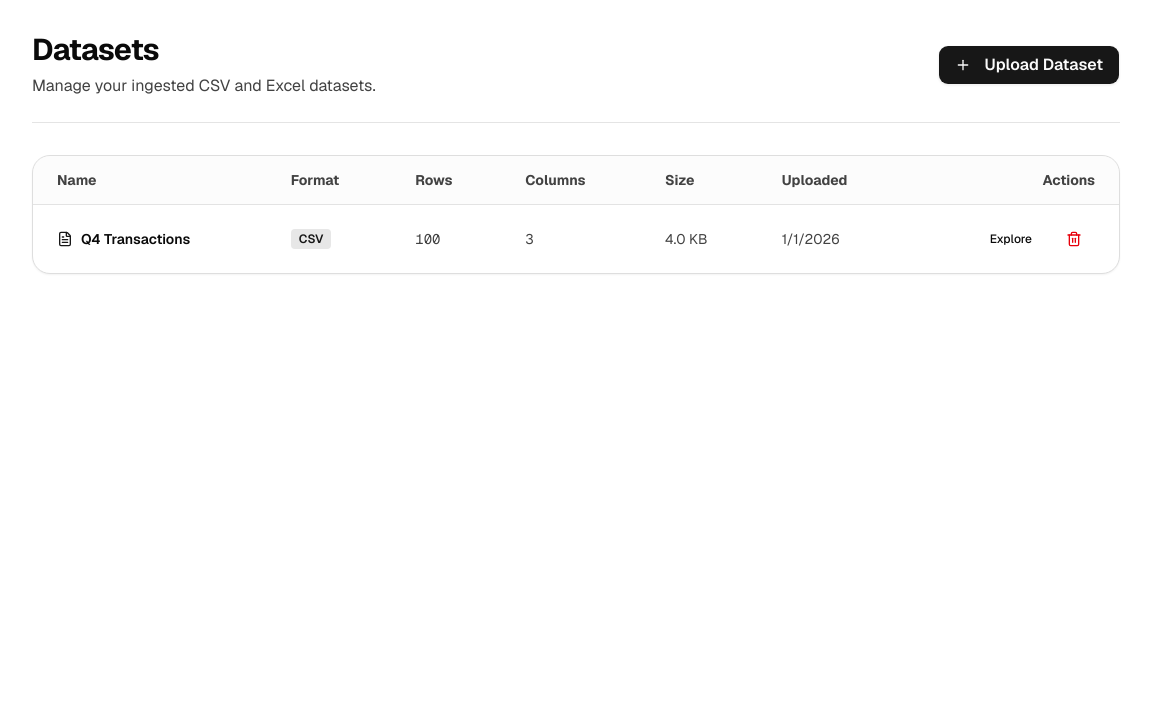
Test case: M2 Dataset Experience › DatasetsListPage › displays error banner when dataset deletion fails
Expected: the text "Q4 Transactions" is shown, [81, 229, 190, 249]
Step 1. Click the 3rd button → (1074, 239), box [1053, 221, 1095, 257]
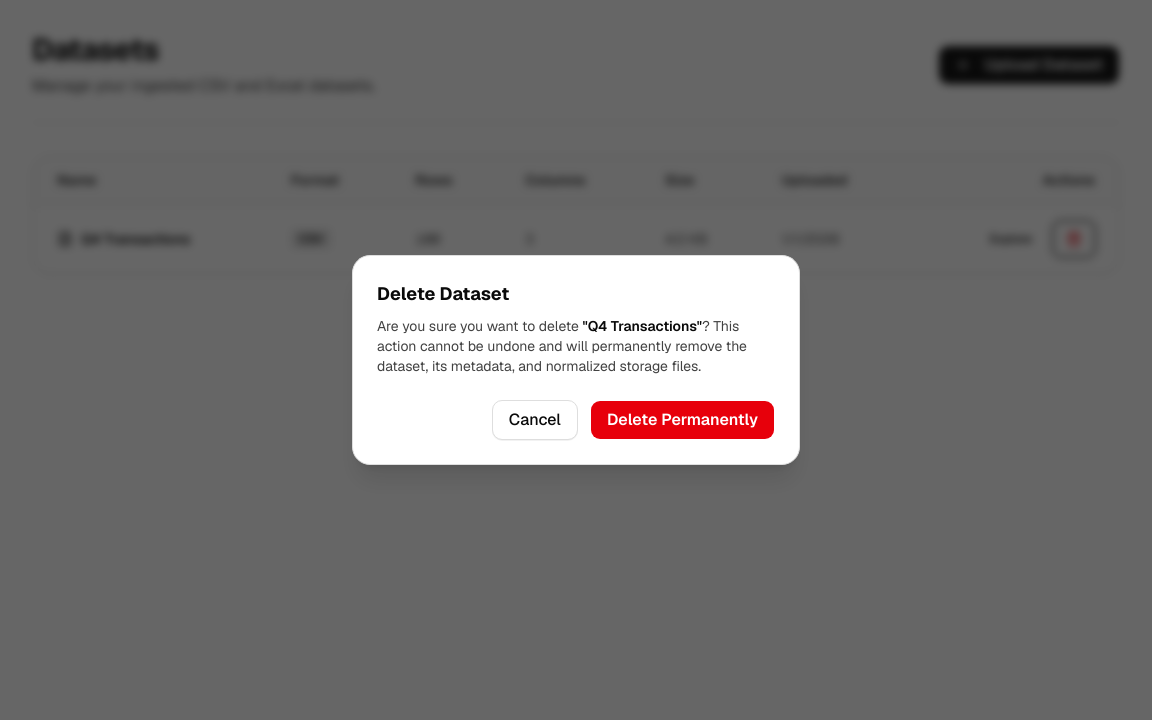
Step 2. Click the button "Delete Permanently" → (682, 420), box [590, 400, 775, 440]
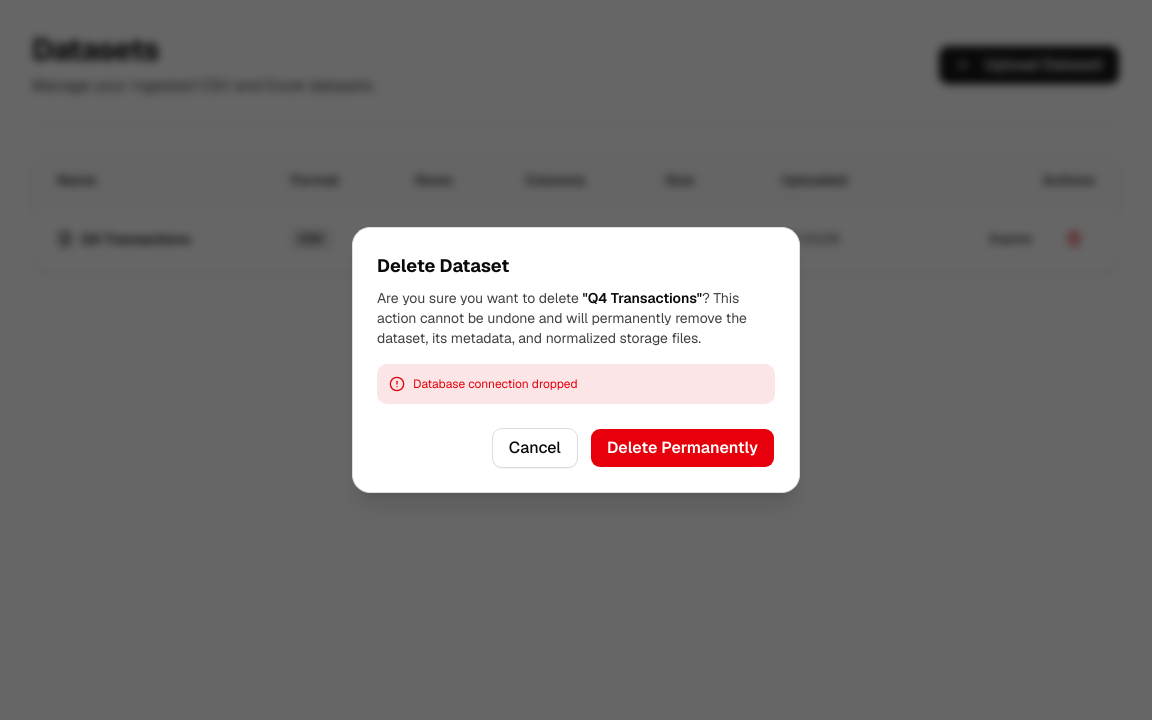
Result: the text "Database connection dropped" is shown at [413, 376, 578, 392]
